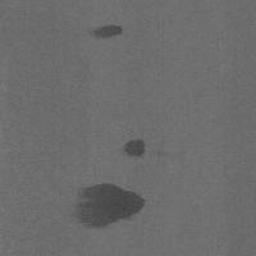Oil spot: (68, 179, 147, 230), (81, 23, 125, 41), (122, 137, 147, 160)
